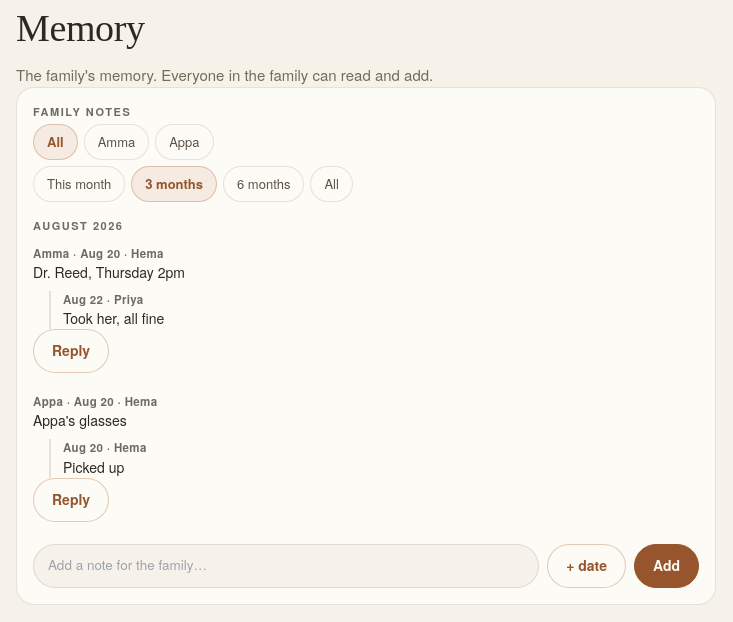
Scenario: filters carry replies with their note (§4) › a parent filter keeps a note's replies with it on the Memory screen
Step 1. Click the radio button labelled "Appa" → x=184, y=142, box x1=155 y1=124 x2=214 y2=160
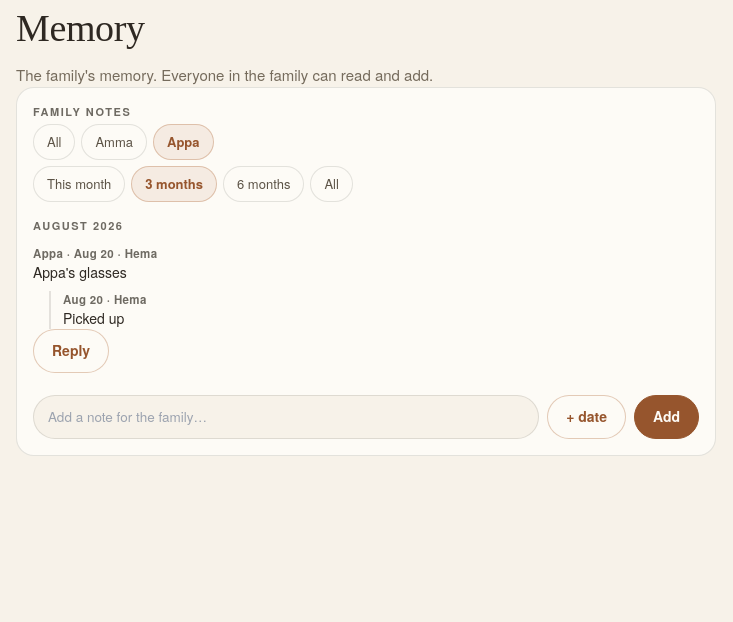
Expected: the element with test id "note-reply" shows "Picked up", x1=63 y1=308 x2=124 y2=328
Now the number of elements with test id "note-entry" is 1, box x1=33 y1=234 x2=699 y2=383
Now the text "Took her, all fine" is gone
